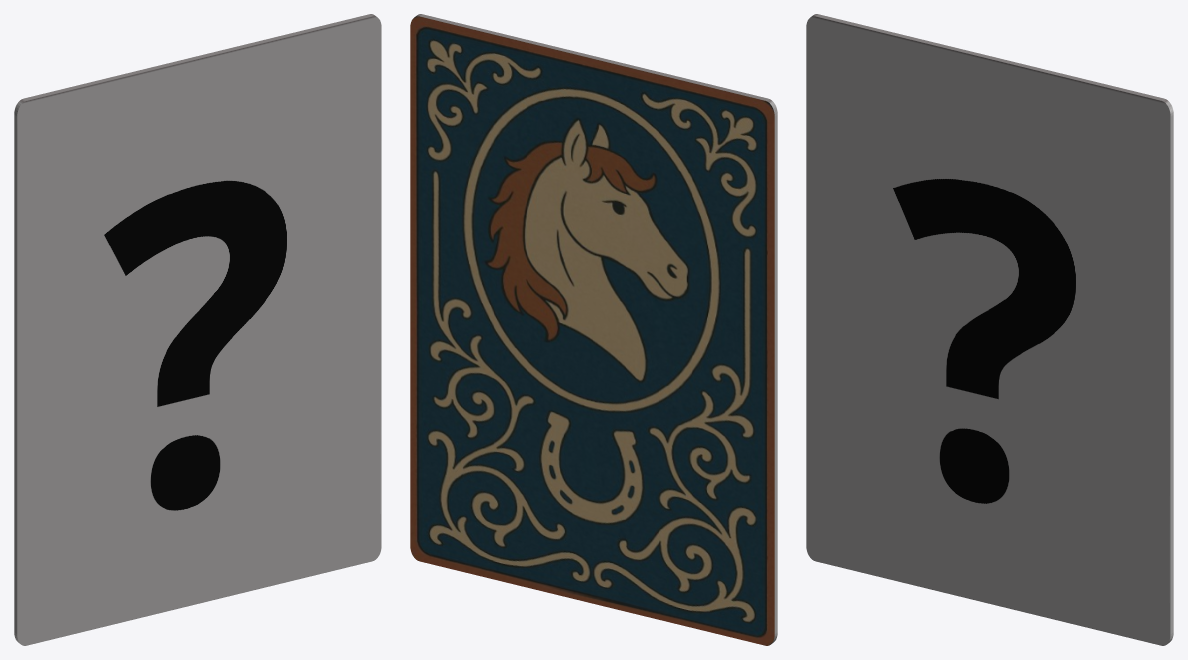
The model's file is Inconnu.glb.
3 renders of one model, left to right at view 1: azimuth 30°, elevation 25°; view 2: azimuth 150°, elevation 25°; view 3: azimuth 330°, elevation 25°, orthographic.
Visible parts, largest first — view 1: Plane; view 2: Plane; view 3: Plane.
Boxes of the visible parts, <box> form: Plane: <box>14,14,381,645</box>; Plane: <box>410,14,777,645</box>; Plane: <box>806,14,1173,645</box>.
Size of the model in its own units: 3.5 by 5 by 0.05.
2 materials, 2 textured.
